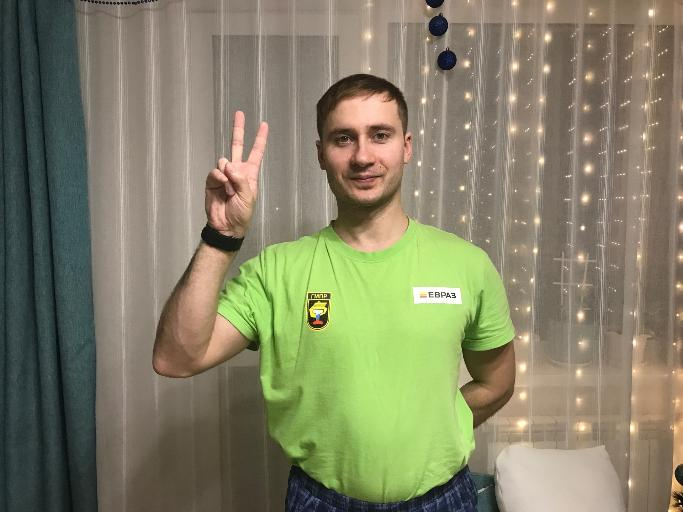peace: (201, 107, 271, 236)
